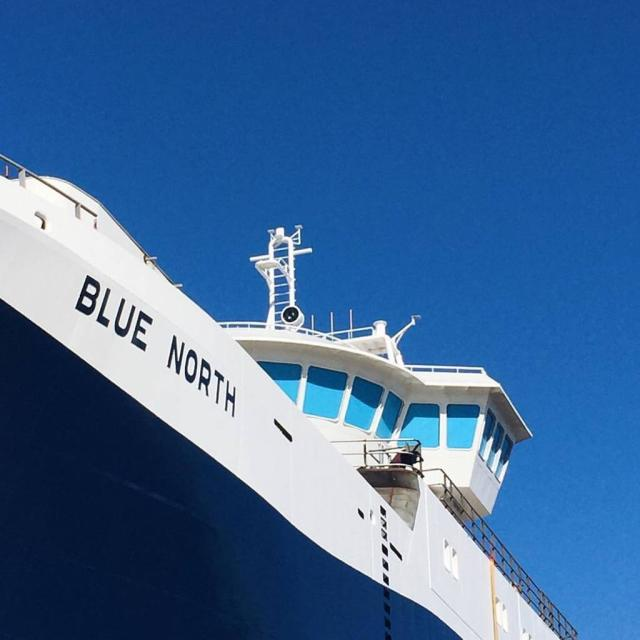Boat: (0, 145, 565, 627)
